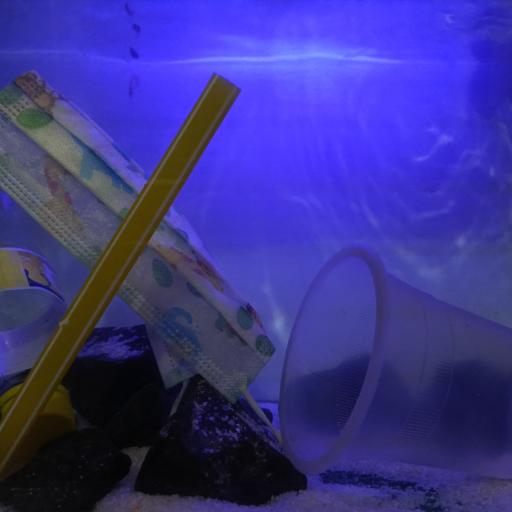bottle_cap: (7, 395, 75, 464)
mask: (0, 70, 273, 413)
plastic_bottle: (0, 185, 75, 465)
plastic_cup: (275, 242, 512, 478)
plastic_straw: (2, 72, 241, 468)
